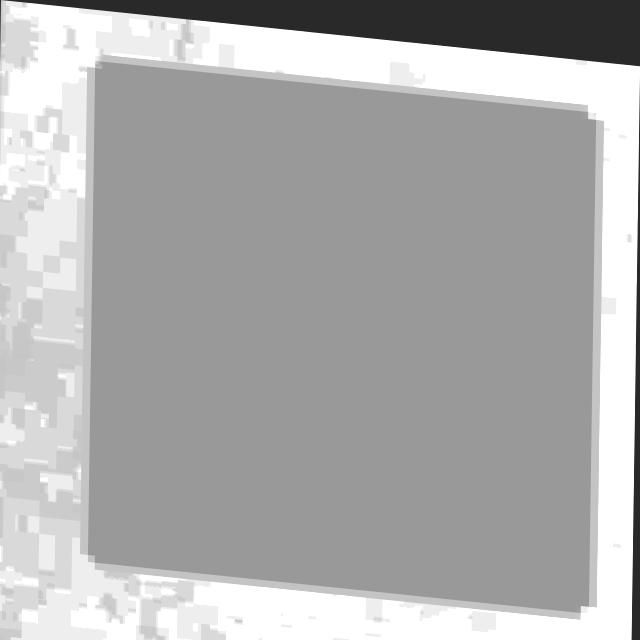qr_code: (89, 59, 595, 601)
